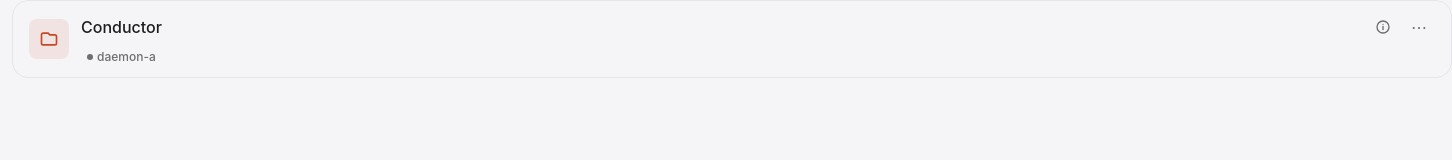
Scenario: ProjectItem › cross-daemon merge/split toggle › shows the Merge button when an opted-out same-name peer exists on another daemon
The width and height of the screenshot is (1452, 160).
Click the button named "Project actions" at (1419, 27), box [1403,11,1435,43]
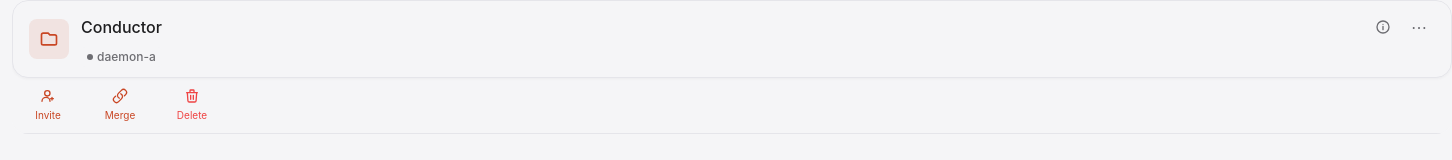
Expected: the button with aria-label "Merge same-name projects across daemons" is shown, [84,78,156,133]
